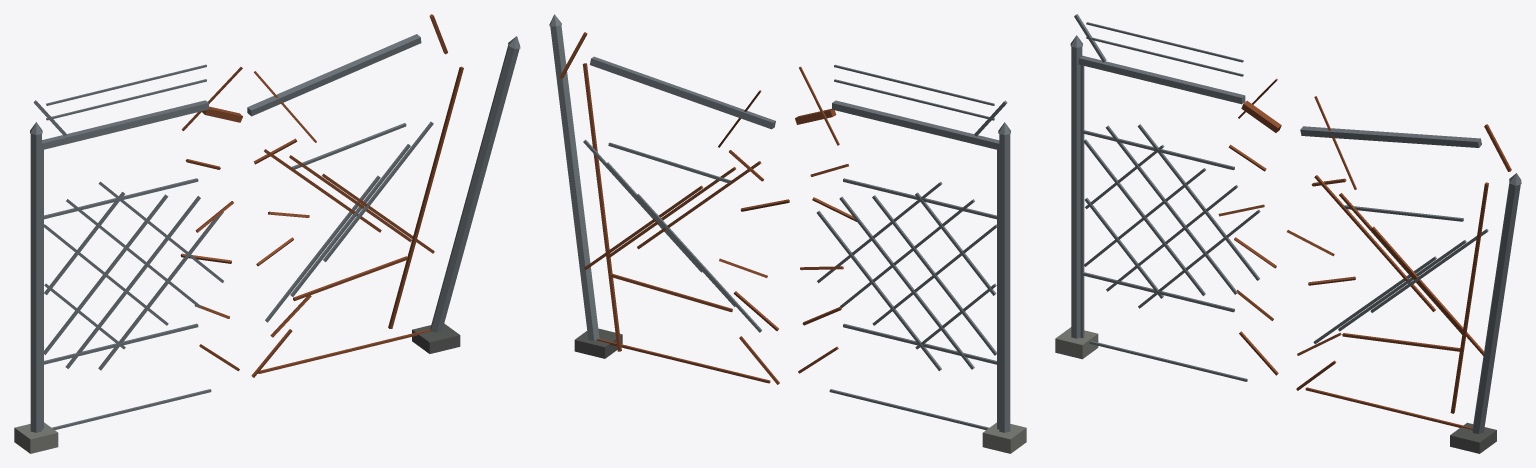
The model's file is fence_broken.glb.
3 views of the same model, side by side, from view 1: azimuth 30°, elevation 25°; view 2: azimuth 150°, elevation 25°; view 3: azimuth 330°, elevation 25° (orthographic). The views are drawn at different scales.
Parts seen in each view (by area): view 1: fence_broken; view 2: fence_broken; view 3: fence_broken.
Part boxes in pixels (bbox=[...]): fence_broken: bbox=[14, 14, 520, 453]; fence_broken: bbox=[549, 14, 1026, 453]; fence_broken: bbox=[1055, 14, 1521, 453].
Size of what is drawn, in the model's own units: 3.48 by 2.37 by 0.4417.
Materials: 2 (2 with a texture image).
